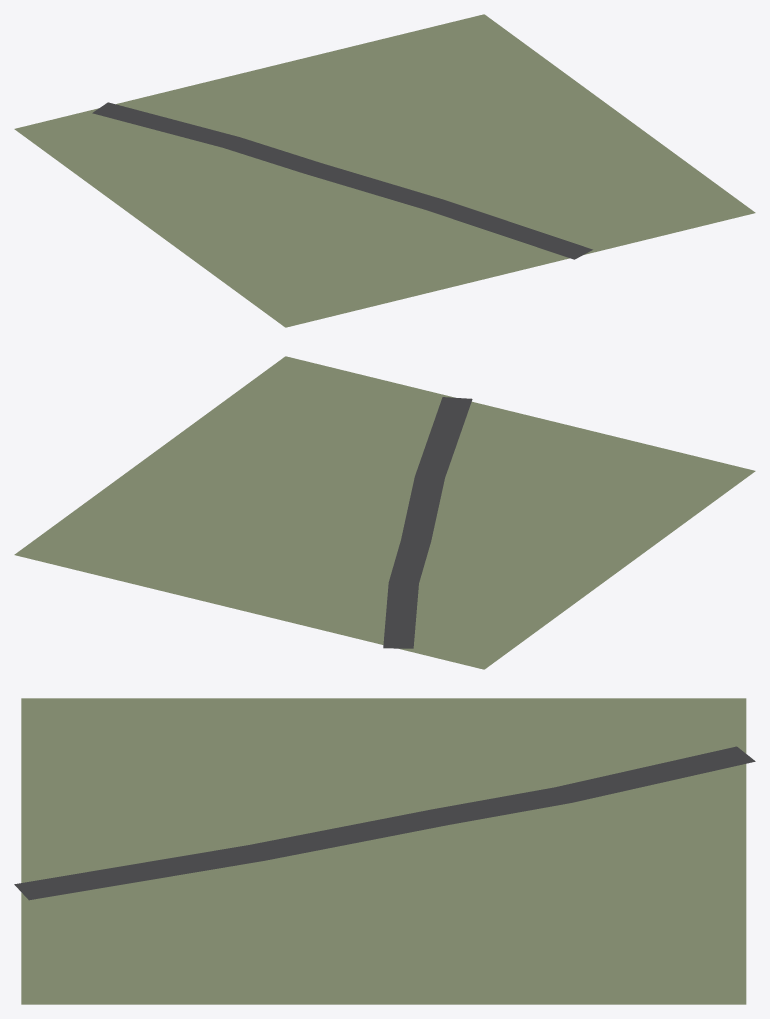
3 renders of one model, top to bottom at view 1: azimuth 30°, elevation 25°; view 2: azimuth 150°, elevation 25°; view 3: azimuth 270°, elevation 25°, orthographic. The views are drawn at different scales.
Visible parts, largest first — view 1: ground, road; view 2: ground, road; view 3: ground, road.
Part boxes in pixels (left/top/right/bottom): ground: left=14, top=14, right=755, bottom=327; road: left=92, top=102, right=592, bottom=259; ground: left=14, top=356, right=755, bottom=669; road: left=383, top=397, right=472, bottom=648; ground: left=21, top=698, right=746, bottom=1004; road: left=14, top=746, right=755, bottom=900.
Bounding box in the file's own units: 250 × 0.12 × 256.
